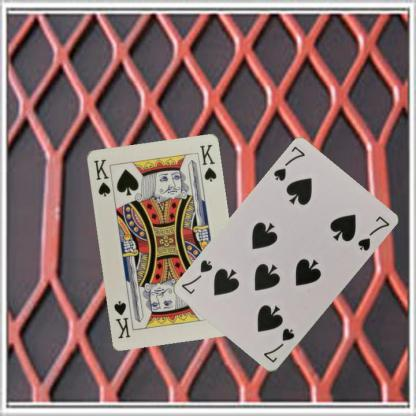7s: (260, 326, 296, 364), (271, 144, 306, 183)
Ks: (90, 156, 112, 198)
